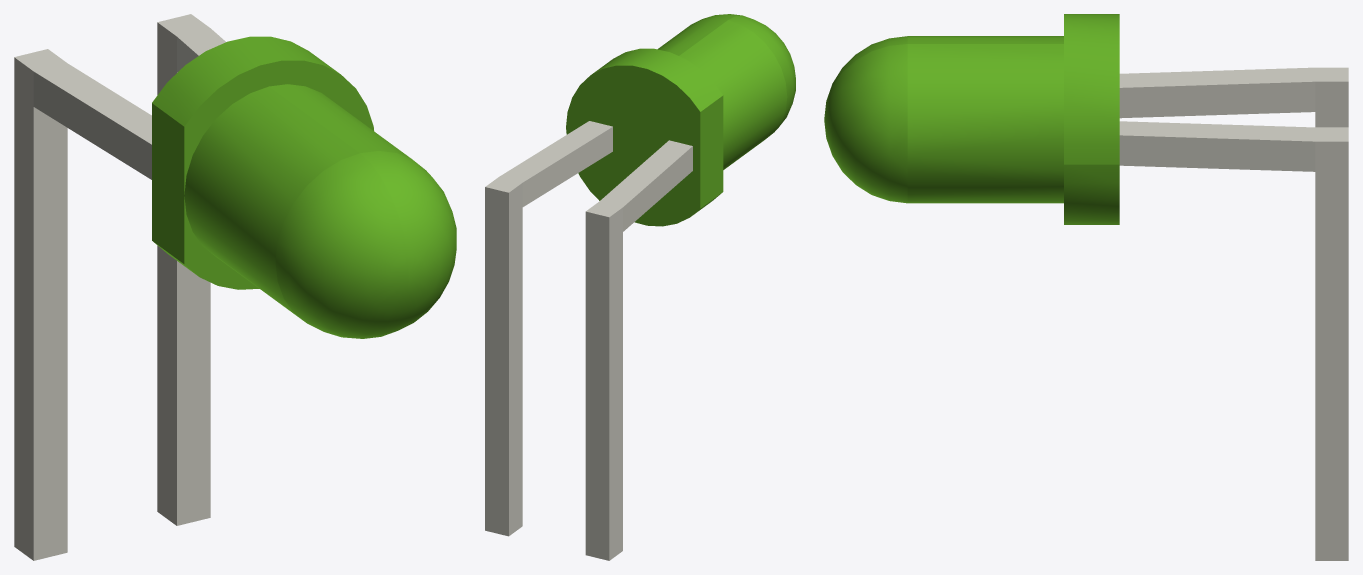
Rendered from kc-led_d3.0mm_horizontal_o3.81mm_z6.0mm.glb.
3 renders of one model, left to right at view 1: azimuth 30°, elevation 25°; view 2: azimuth 150°, elevation 25°; view 3: azimuth 270°, elevation 25°, orthographic. The views are drawn at different scales.
Parts seen in each view (by area): view 1: 0.16666666666666666_0.4166666666666667_0_0, 0.6666666666666666_0.6666666666666666_0.5833333333333334_0.8; view 2: 0.6666666666666666_0.6666666666666666_0.5833333333333334_0.8, 0.16666666666666666_0.4166666666666667_0_0; view 3: 0.16666666666666666_0.4166666666666667_0_0, 0.6666666666666666_0.6666666666666666_0.5833333333333334_0.8.
Boxes of the visible parts, left/top/right/bottom form: 0.16666666666666666_0.4166666666666667_0_0: left=152, top=36, right=456, bottom=338; 0.6666666666666666_0.6666666666666666_0.5833333333333334_0.8: left=14, top=14, right=225, bottom=560; 0.6666666666666666_0.6666666666666666_0.5833333333333334_0.8: left=485, top=121, right=692, bottom=560; 0.16666666666666666_0.4166666666666667_0_0: left=566, top=14, right=795, bottom=226; 0.16666666666666666_0.4166666666666667_0_0: left=824, top=14, right=1119, bottom=224; 0.6666666666666666_0.6666666666666666_0.5833333333333334_0.8: left=1119, top=67, right=1348, bottom=560.
Bounding box in the file's own units: 0.347 × 0.9894 × 0.941.
